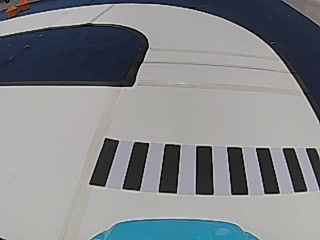CrossWalk: (89, 138, 317, 195)
